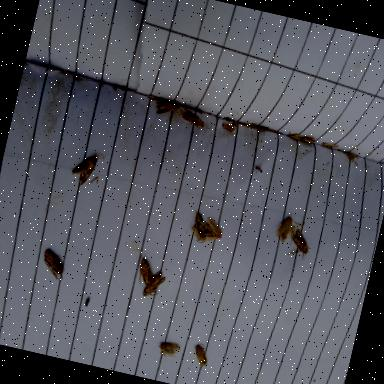pbw: (69, 146, 108, 190), (176, 104, 216, 131), (134, 249, 160, 289), (39, 248, 69, 282), (288, 228, 314, 262), (198, 217, 226, 247), (142, 268, 168, 300), (273, 215, 297, 246), (190, 211, 212, 244), (190, 342, 212, 368), (156, 340, 182, 360), (154, 100, 176, 118), (220, 119, 238, 134), (286, 131, 303, 141), (256, 126, 269, 136), (300, 136, 316, 144)
